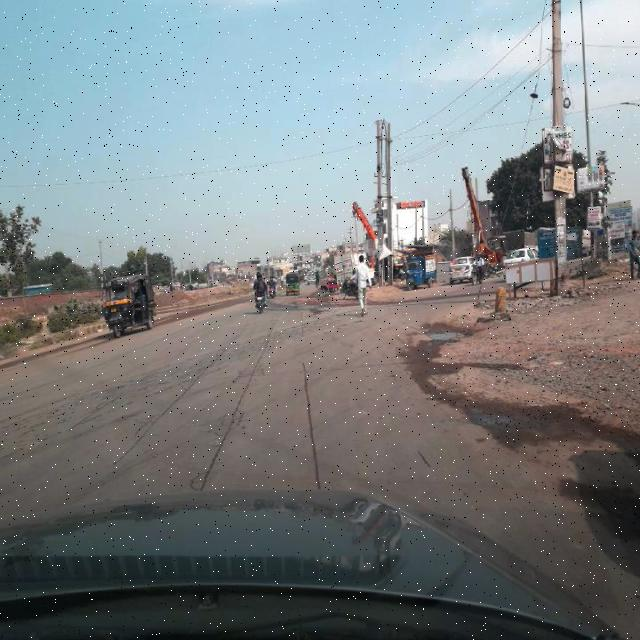D00: (200, 329, 274, 491), (118, 378, 196, 468), (300, 363, 322, 485)
D20: (7, 367, 196, 431)
